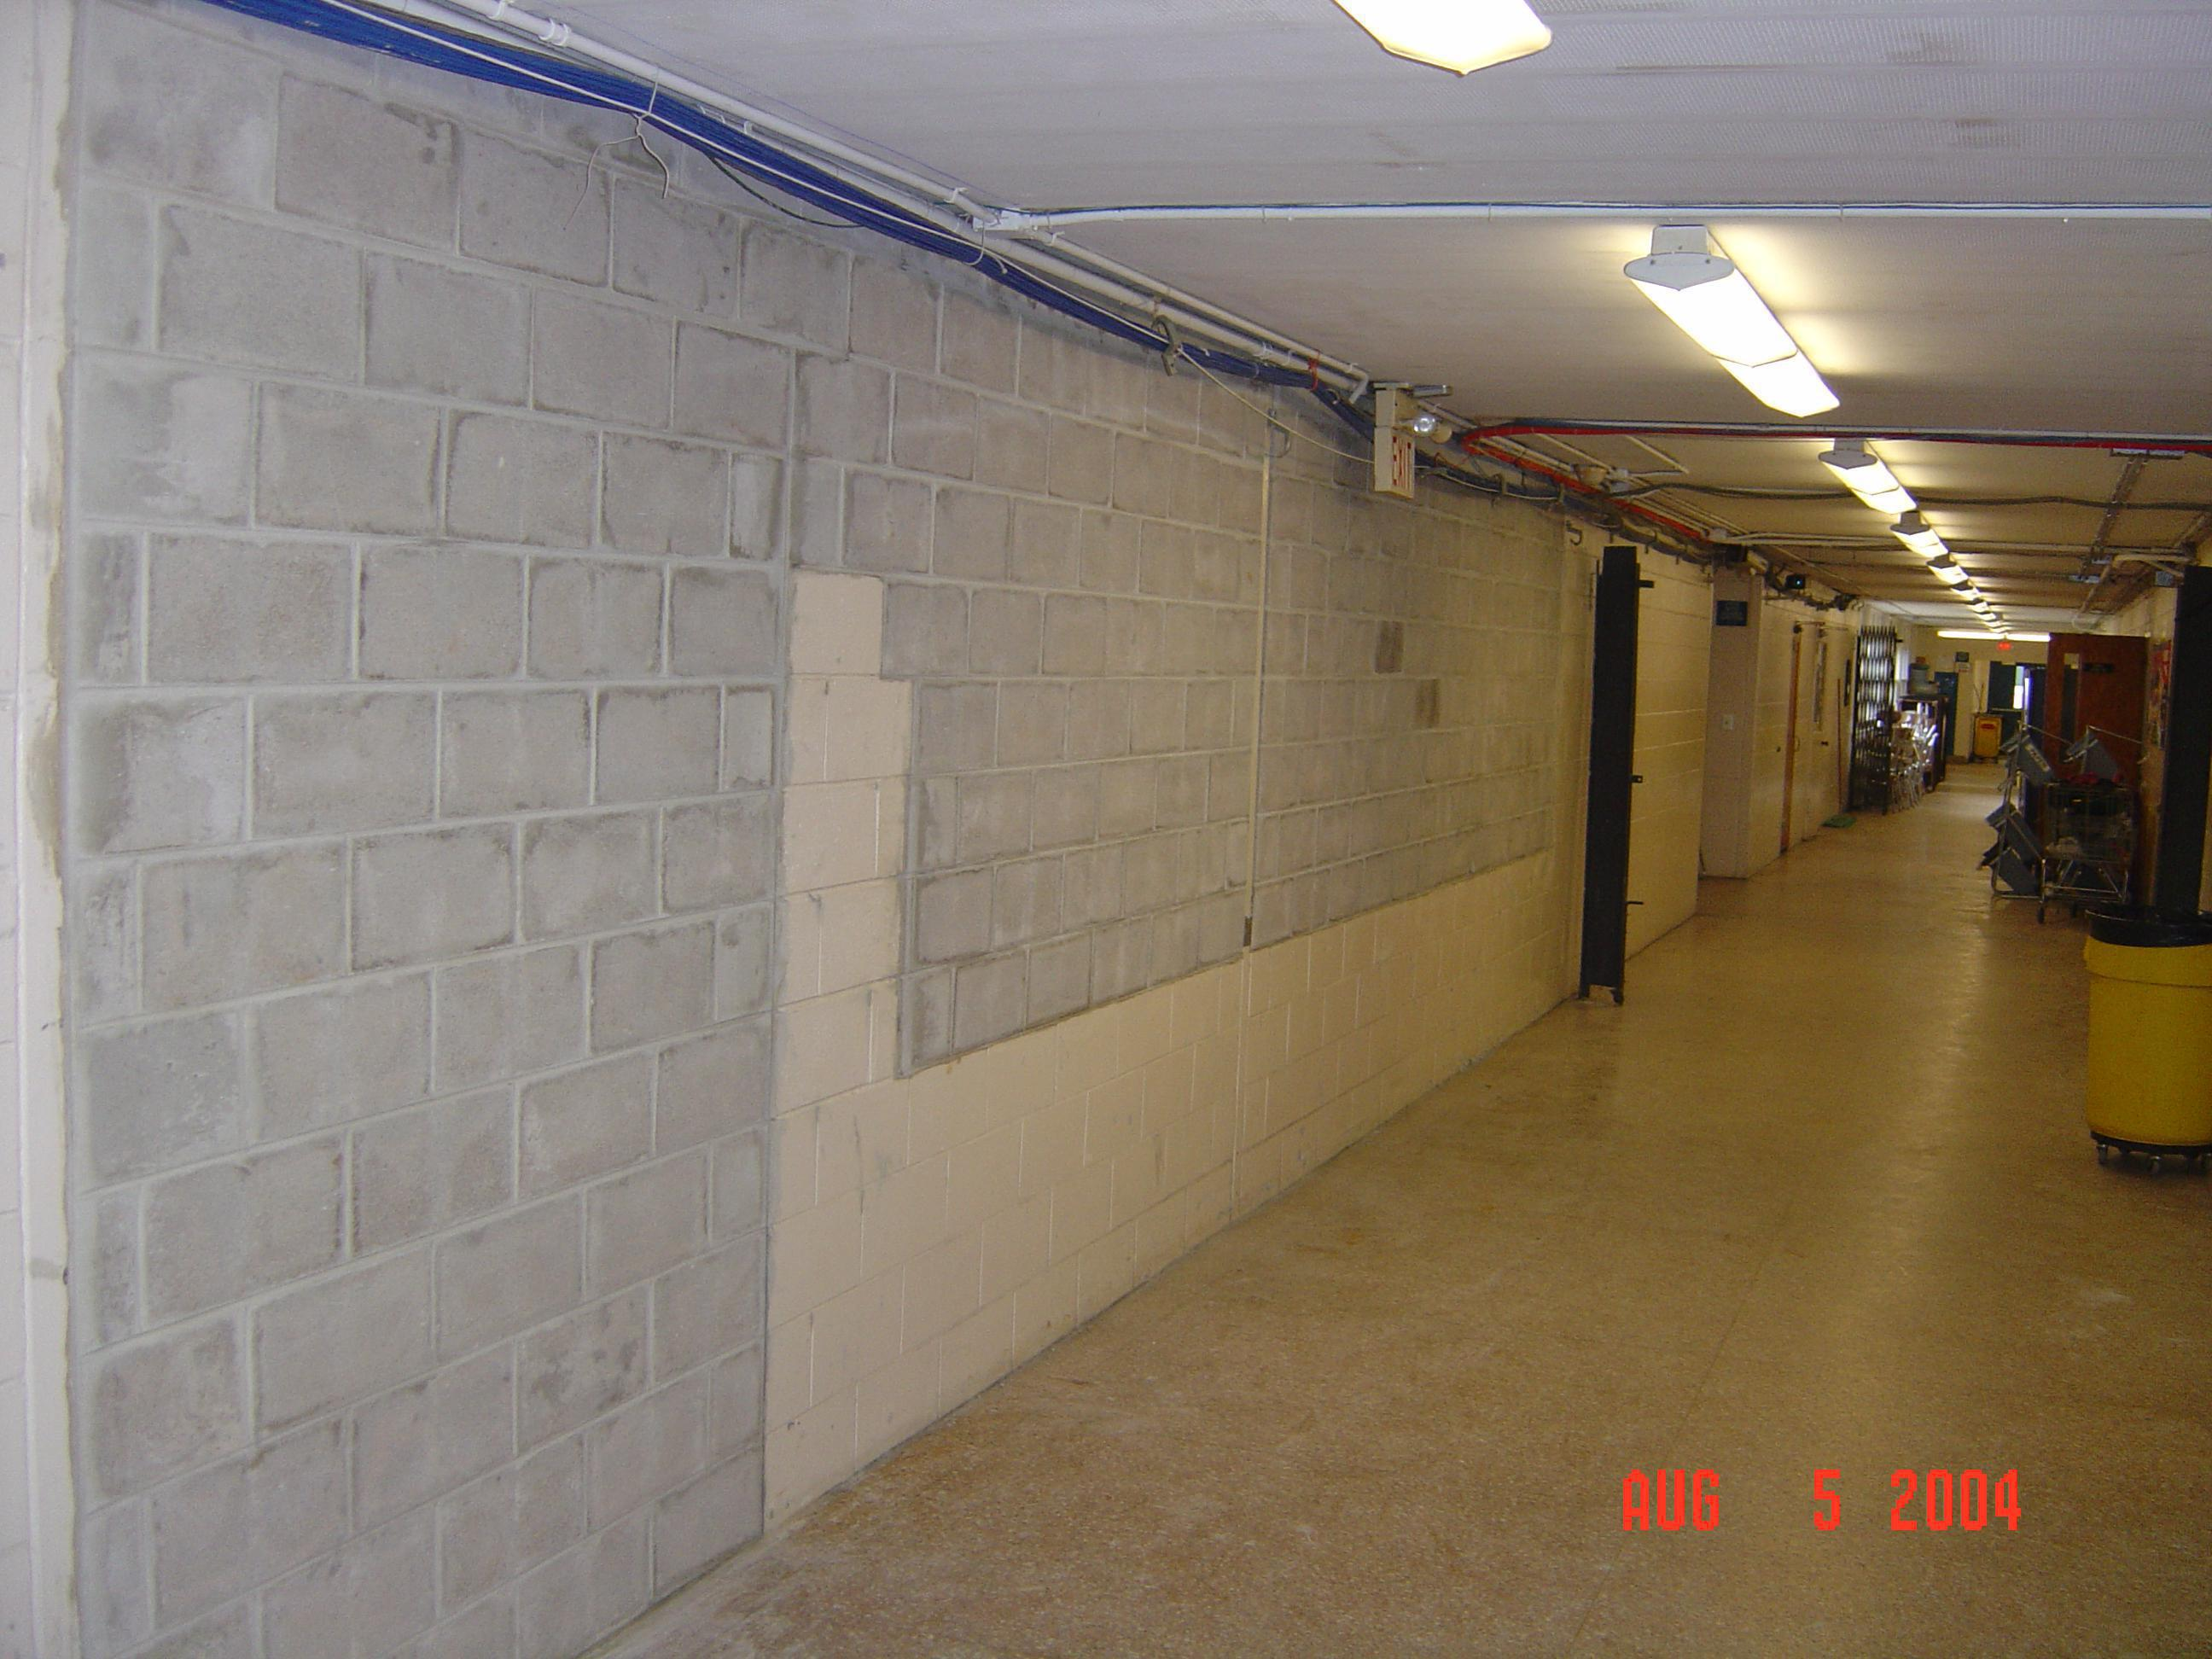Bote de Basura: (2064, 880, 2212, 1180), (1989, 725, 2144, 932)
Puerta: (1587, 544, 1658, 1032)
